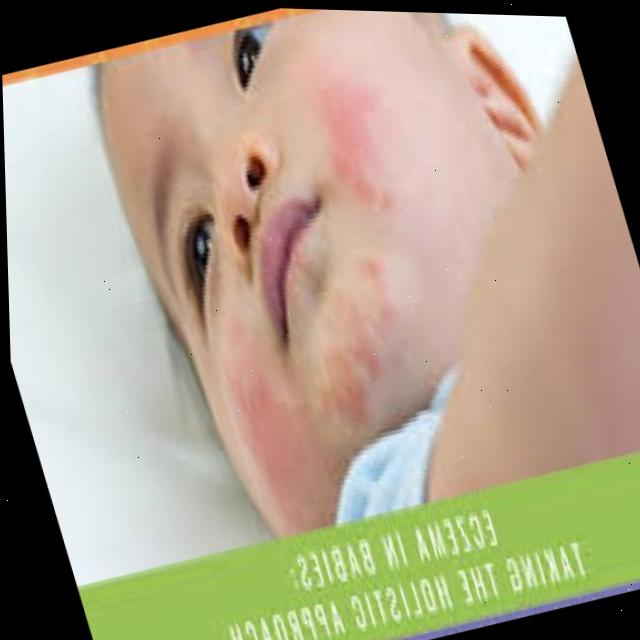Eczema: (209, 276, 415, 491), (314, 105, 401, 208)
